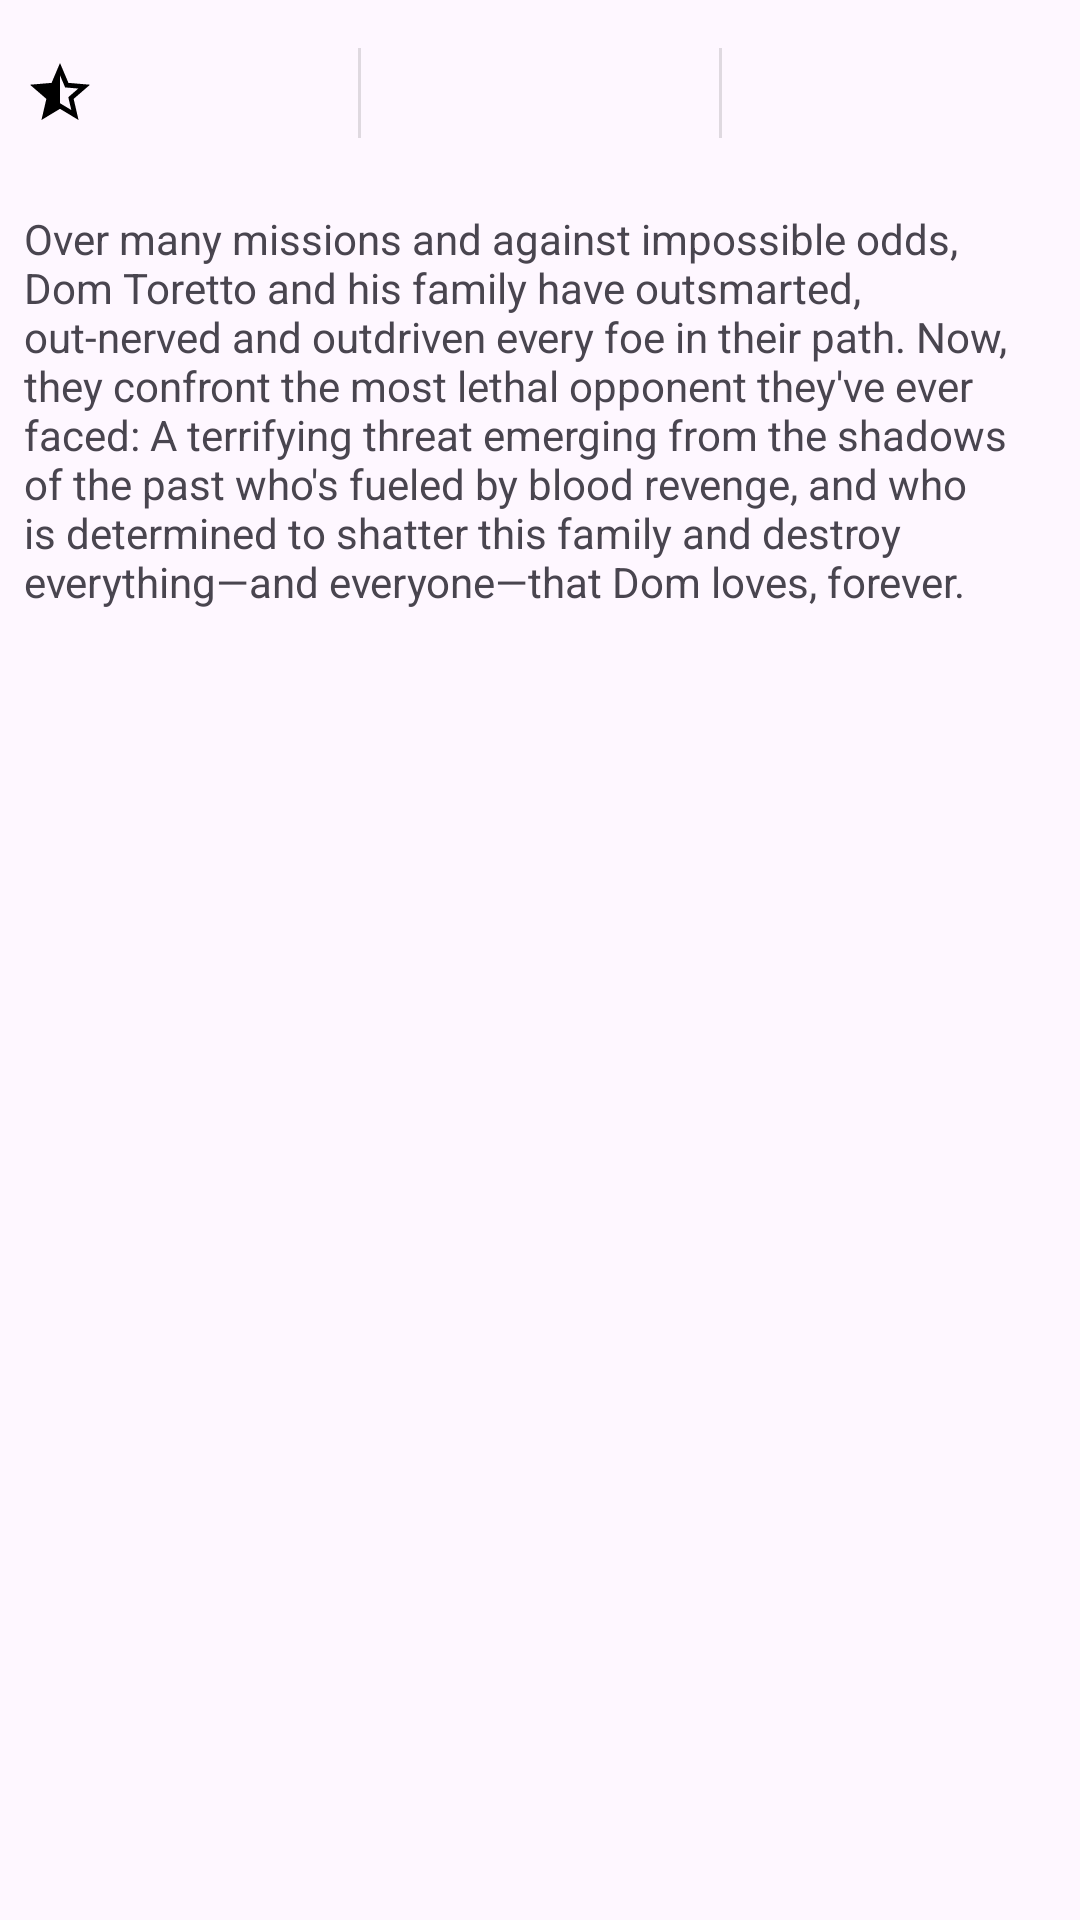

Icons on this 1080×1920 Android screen, each with its box as (x1, y1, x2, y2):
star: (30, 63, 90, 120)
